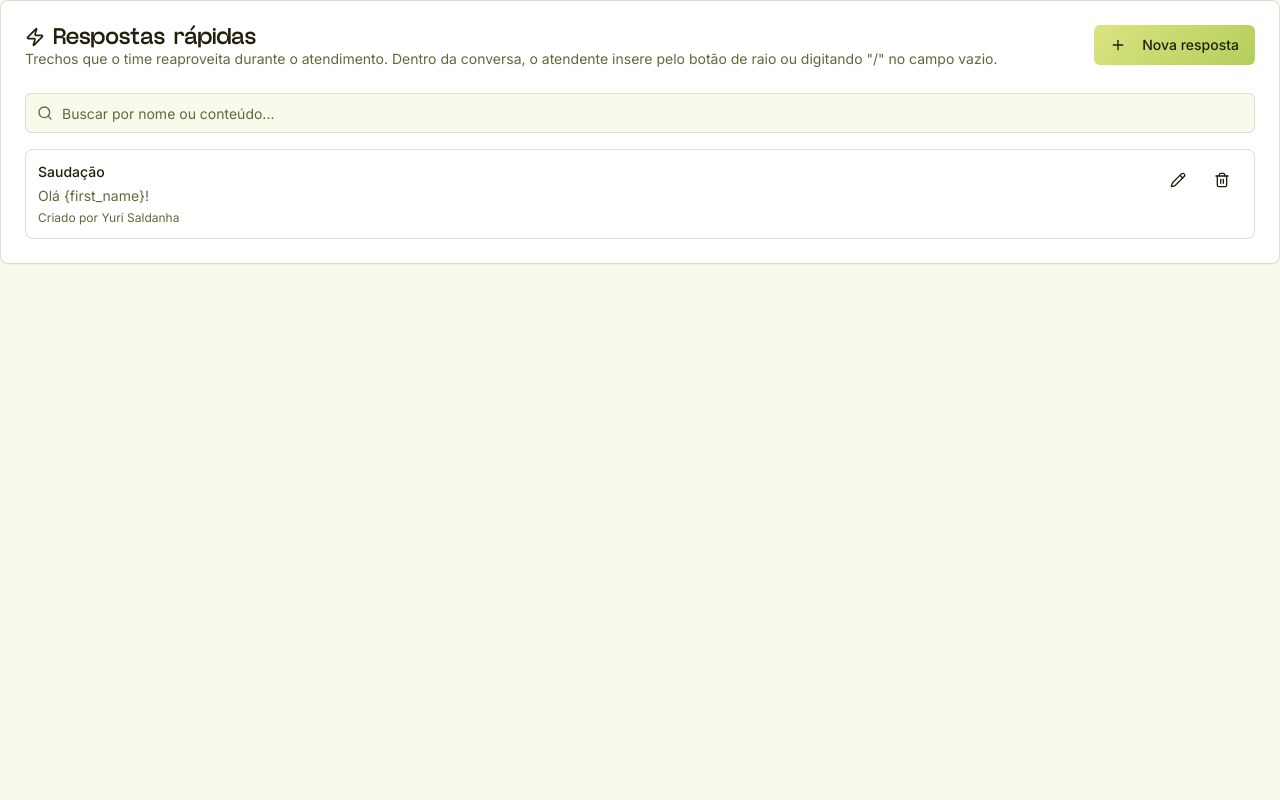
Scenario: criar e editar › abre a edição já preenchida com o que está salvo
The image size is (1280, 800).
What coordinates should you click on to do the following:
click the button named "Editar Saudação"
I would click on:
 (1178, 180)
Its box is [1158,162,1198,198].
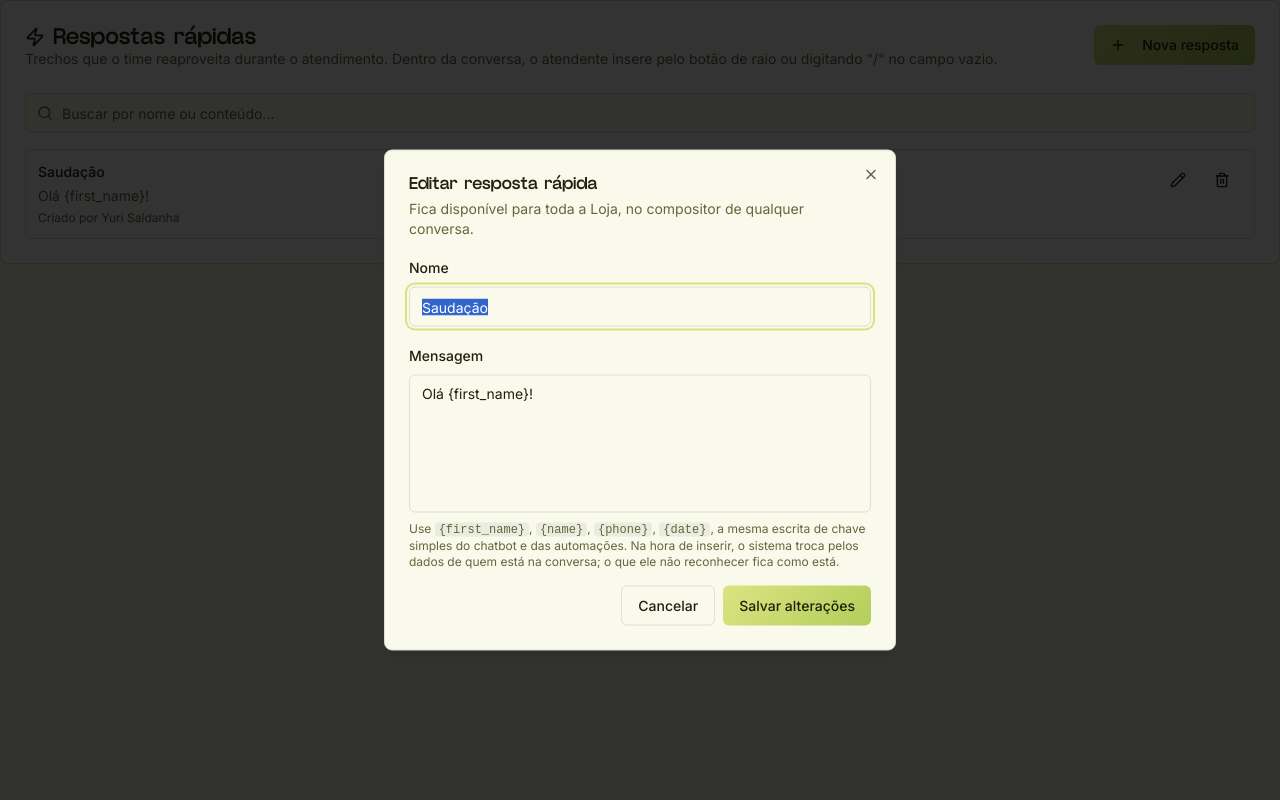
Result: the field labelled "Nome" holds "Saudação" at [409,286,871,326]
Result: the text box labelled "Mensagem" holds "Olá {first_name}!" at [409,374,871,512]
